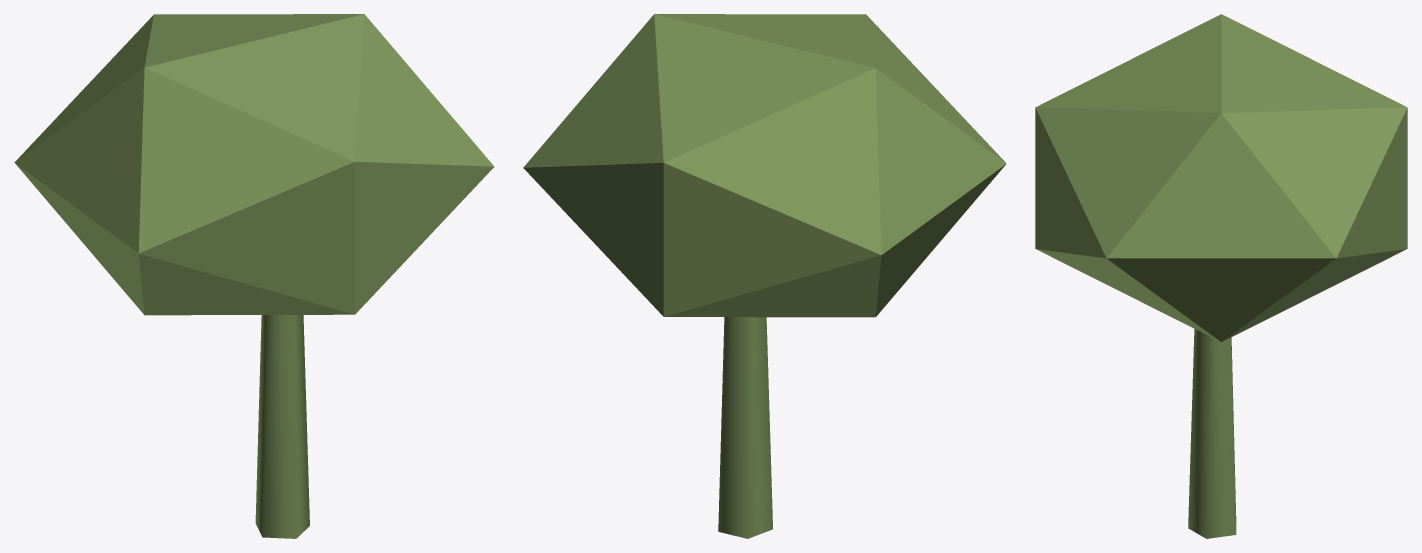
3 views of the same model, side by side, from view 1: azimuth 30°, elevation 25°; view 2: azimuth 150°, elevation 25°; view 3: azimuth 270°, elevation 25° (orthographic). The views are drawn at different scales.
Visible parts, largest first — view 1: shadow-crown; view 2: shadow-crown; view 3: shadow-crown.
Boxes of the visible parts, x1,y1,x2,y2 form: shadow-crown: (14,14,494,538); shadow-crown: (523,14,1006,538); shadow-crown: (1035,14,1407,538).
Size of the model in its own units: 6 by 7.9 by 5.87.
